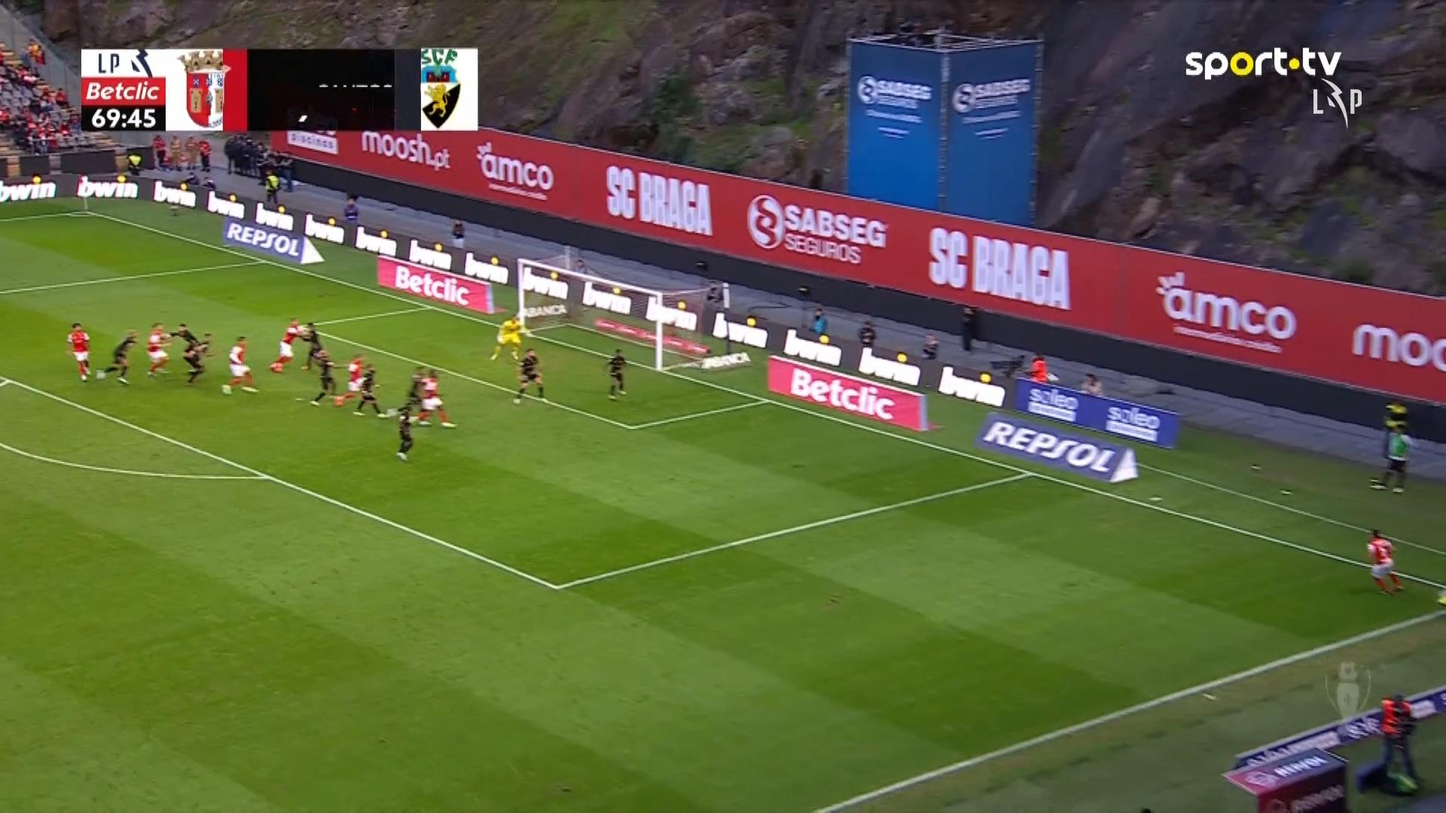goalkeeper: (489, 314, 526, 361)
player: (170, 322, 213, 383), (1365, 528, 1404, 595), (415, 369, 457, 428), (96, 328, 139, 385), (220, 335, 259, 394), (305, 346, 340, 406), (351, 364, 388, 417), (268, 317, 302, 373), (512, 348, 546, 403), (333, 354, 366, 407), (403, 364, 429, 425), (66, 321, 92, 381), (145, 321, 173, 376), (297, 320, 321, 370), (605, 347, 627, 400), (394, 408, 413, 461)
referee: (1378, 692, 1420, 784)
